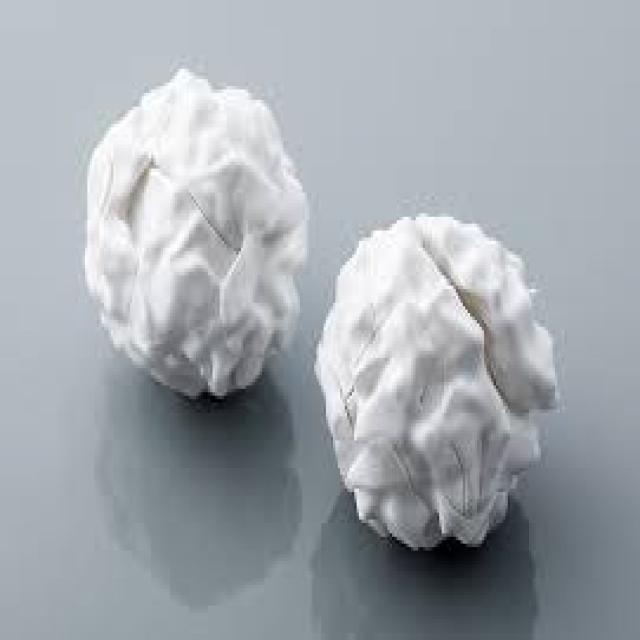Paper: (314, 213, 562, 554), (83, 69, 312, 406)
